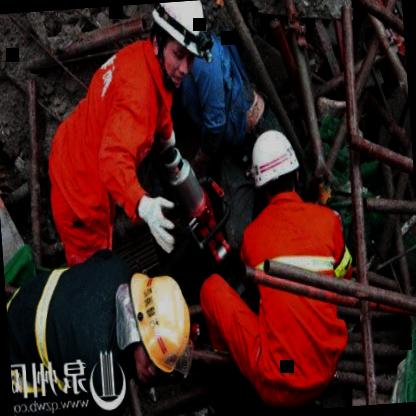helmet: (122, 266, 192, 386), (141, 0, 214, 91), (245, 117, 302, 215)
